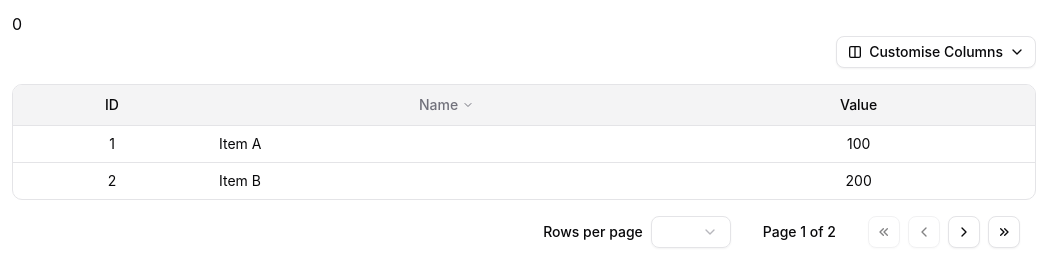
Test: Components - DataTable › handles pagination efficiently smartly intelligently systematically correctly safely intuitively dynamically optimally automatically neatly implicitly smoothly
The width and height of the screenshot is (1048, 265).
Expected: the text with test id "page-index" reads "0", [12, 14, 22, 34]
Step 1. Click the 3rd button named "next page" → x=964, y=232, box [948, 216, 980, 248]
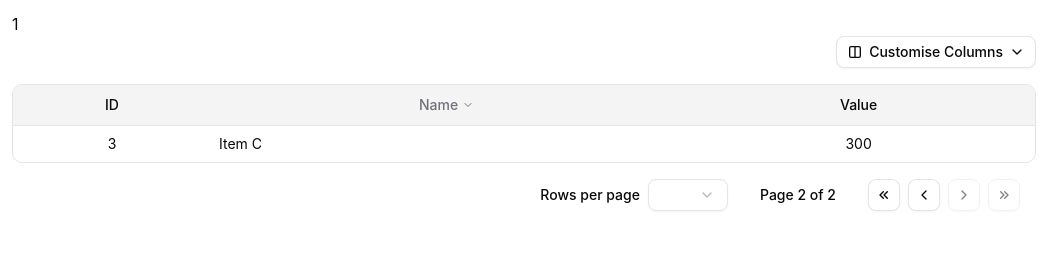
Expected: the text with test id "page-index" reads "1", [12, 14, 18, 34]
